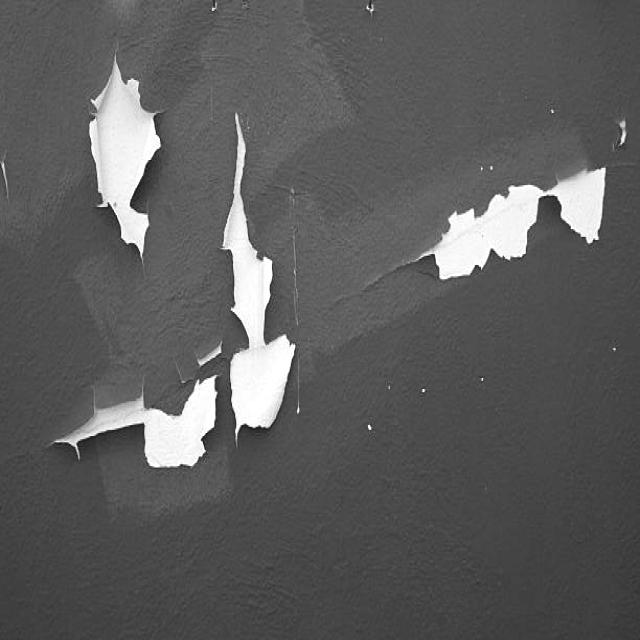peeling paint: (0, 38, 640, 491)
